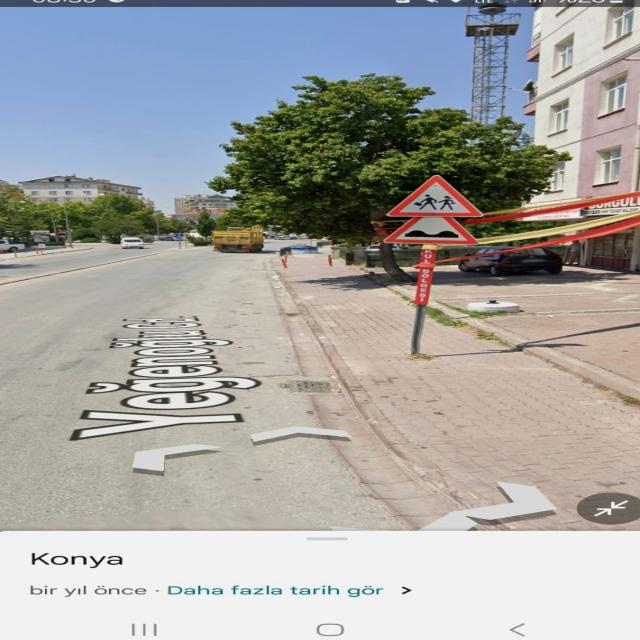okul_gecidi: (385, 174, 484, 216)
